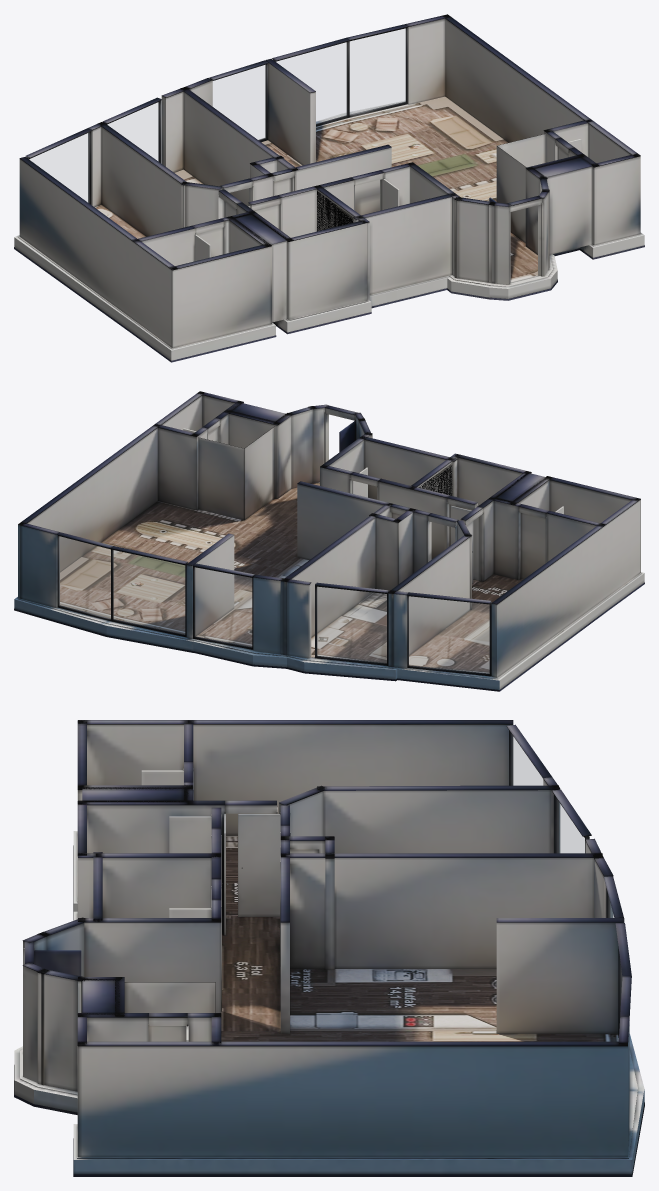
3 views of the same model, one above another, from view 1: azimuth 30°, elevation 25°; view 2: azimuth 150°, elevation 25°; view 3: azimuth 270°, elevation 25° (orthographic). The views are drawn at different scales.
Parts seen in each view (by area): view 1: plan, glass4_m, glass3_m, glass2_m, glass0_m, glass1_m; view 2: plan, glass0_m, glass3_m, glass1_m, glass2_m, glass4_m; view 3: plan, glass0_m, glass1_m.
Part boxes in pixels (x1,y1,x2,y2): plan: [14, 14, 644, 362]; glass4_m: [350, 28, 405, 114]; glass3_m: [277, 42, 347, 123]; glass2_m: [213, 65, 265, 139]; glass0_m: [29, 133, 89, 202]; glass1_m: [108, 102, 158, 161]; plan: [14, 391, 644, 691]; glass0_m: [409, 596, 489, 673]; glass3_m: [113, 550, 184, 634]; glass1_m: [317, 587, 386, 663]; glass2_m: [195, 567, 251, 646]; glass4_m: [59, 536, 110, 618]; plan: [14, 720, 644, 1176]; glass0_m: [511, 734, 542, 785]; glass1_m: [557, 800, 584, 852].
Bounding box in the file's own units: 14.35 × 2.62 × 11.59.
2 materials, 1 textured.
